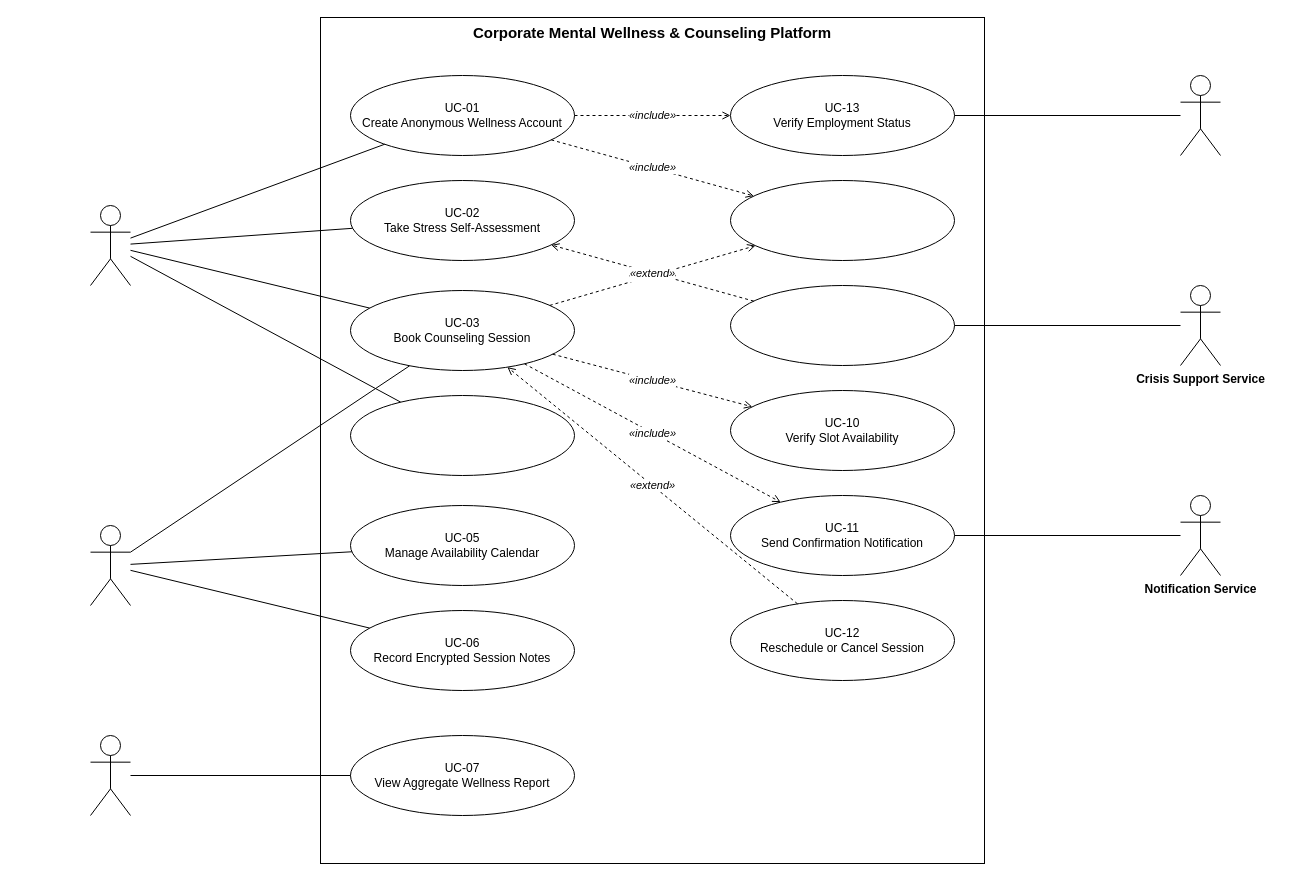
Image size: 1295x881. Some labels were removed from this diagram. The centre of each missing label's shape, as x and y in pixels:
Corporate Employee: point (110, 245)
Corporate Identity Provider: point (1200, 115)
Licensed Therapist: point (110, 565)
UC-04 View Wellness Trend Dashboard: point (462, 435)
UC-08 Generate Pseudo-ID: point (842, 220)
UC-09 Escalate to Crisis Support: point (842, 325)
Wellness Program Administrator: point (110, 775)
